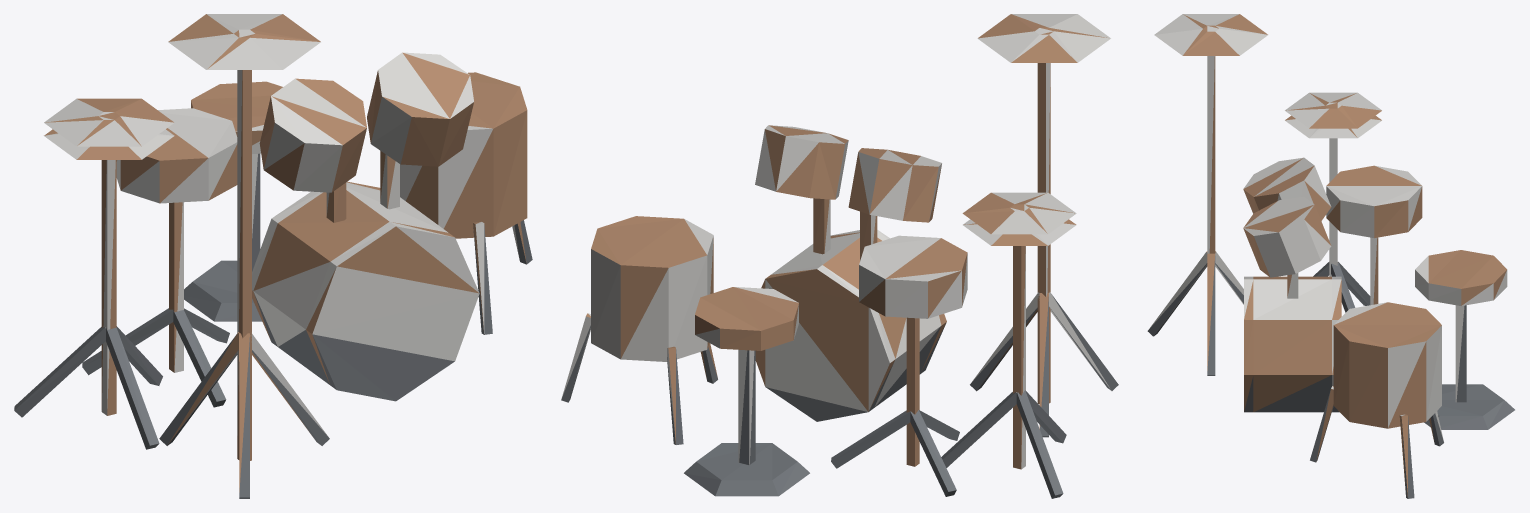
File: drum-set-00.glb
3 renders of one model, left to right at view 1: azimuth 30°, elevation 25°; view 2: azimuth 150°, elevation 25°; view 3: azimuth 270°, elevation 25°, orthographic. The views are drawn at different scales.
Parts seen in each view (by area): view 1: drum_set_00; view 2: drum_set_00; view 3: drum_set_00.
Part boxes in pixels (x1,y1,x2,y2): drum_set_00: [14, 14, 532, 498]; drum_set_00: [561, 14, 1118, 498]; drum_set_00: [1147, 14, 1514, 498].
Size of the model in its own units: 1.73 by 1.3 by 1.35.
